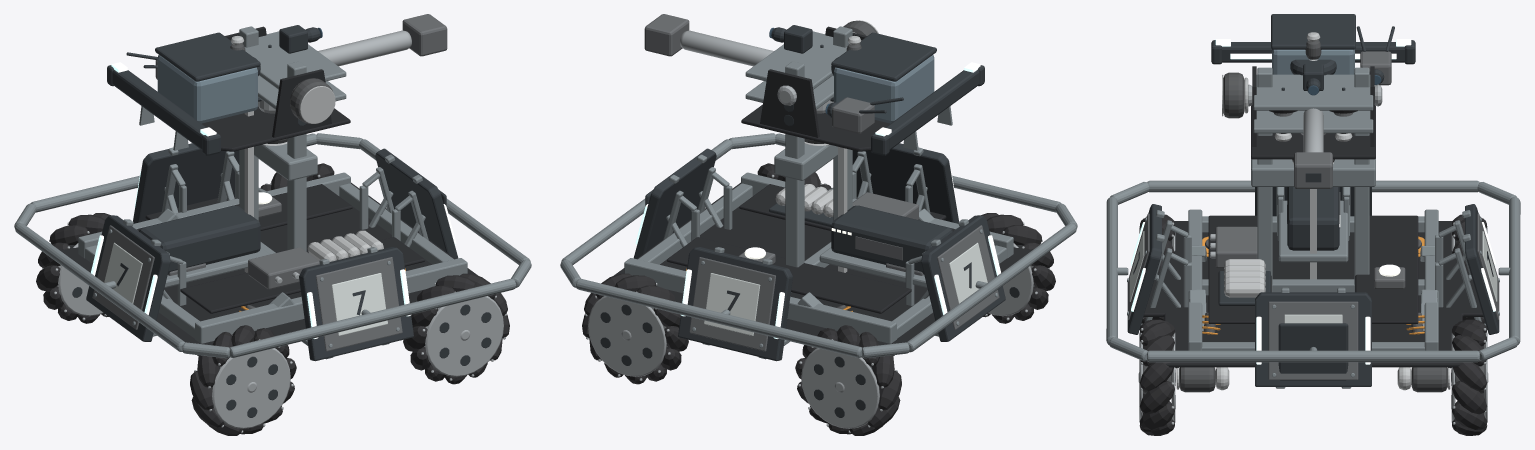
Rendered from robot-7-spec2026v4.glb.
The picture shows the model from 3 angles, left to right: view 1: azimuth 30°, elevation 25°; view 2: azimuth 150°, elevation 25°; view 3: azimuth 270°, elevation 25°; orthographic projection.
Visible parts, largest first — view 1: Chassis_RobotMatteAluminum, Chassis_CarbonPlate, Chassis_RobotMatteGraphite, Wheel_2_MachinedAlloy, Wheel_0_MachinedAlloy, ArmorModuleBody.001, MagazineBox, Turret_CarbonPlate, ArmorModuleBody.003, ArmorModuleBody, Wheel_0_PolyurethaneRoller, ArmorHitFace.003 (+24 smaller); view 2: Chassis_RobotMatteAluminum, Chassis_CarbonPlate, Chassis_RobotMatteGraphite, Wheel_3_MachinedAlloy, Wheel_1_MachinedAlloy, Turret_CarbonPlate, ArmorModuleBody.003, MagazineBox, ArmorModuleBody.001, Turret_RobotMatteGraphite, ArmorModuleBody, Wheel_1_PolyurethaneRoller (+22 smaller); view 3: Chassis_RobotMatteAluminum, Chassis_CarbonPlate, Chassis_RobotMatteGraphite, GunPitch_RobotMatteAluminum, ArmorModuleBody, Wheel_2_PolyurethaneRoller, Wheel_3_PolyurethaneRoller, ArmorHitFace, Chassis_MotorCapSilver, Turret_CarbonPlate, MagazineLid, LiftCarriage (+27 smaller).
Boxes of the visible parts, x1=… form: Chassis_RobotMatteAluminum: x1=14, y1=26, x2=531, y2=358; Chassis_CarbonPlate: x1=58, y1=182, x2=477, y2=356; Chassis_RobotMatteGraphite: x1=139, y1=190, x2=446, y2=273; Wheel_2_MachinedAlloy: x1=421, y1=283, x2=506, y2=380; Wheel_0_MachinedAlloy: x1=194, y1=335, x2=293, y2=433; ArmorModuleBody.001: x1=133, y1=143, x2=239, y2=223; MagazineBox: x1=157, y1=55, x2=257, y2=123; Turret_CarbonPlate: x1=202, y1=26, x2=350, y2=151; ArmorModuleBody.003: x1=299, y1=247, x2=413, y2=361; ArmorModuleBody: x1=375, y1=148, x2=458, y2=258; Wheel_0_PolyurethaneRoller: x1=190, y1=325, x2=296, y2=435; ArmorHitFace.003: x1=316, y1=257, x2=402, y2=351; Chassis_RobotMatteAluminum: x1=560, y1=26, x2=1077, y2=358; Chassis_CarbonPlate: x1=614, y1=182, x2=1033, y2=356; Chassis_RobotMatteGraphite: x1=645, y1=190, x2=952, y2=273; Wheel_3_MachinedAlloy: x1=585, y1=283, x2=670, y2=380; Wheel_1_MachinedAlloy: x1=798, y1=335, x2=897, y2=433; Turret_CarbonPlate: x1=741, y1=26, x2=889, y2=151; ArmorModuleBody.003: x1=852, y1=143, x2=958, y2=223; MagazineBox: x1=834, y1=55, x2=934, y2=123; ArmorModuleBody.001: x1=678, y1=247, x2=792, y2=361; Turret_RobotMatteGraphite: x1=783, y1=65, x2=984, y2=155; ArmorModuleBody: x1=633, y1=148, x2=716, y2=258; Wheel_1_PolyurethaneRoller: x1=795, y1=325, x2=901, y2=435; Chassis_RobotMatteAluminum: x1=1106, y1=67, x2=1520, y2=362; Chassis_CarbonPlate: x1=1143, y1=215, x2=1483, y2=367; Chassis_RobotMatteGraphite: x1=1175, y1=187, x2=1451, y2=380; GunPitch_RobotMatteAluminum: x1=1253, y1=74, x2=1373, y2=133; ArmorModuleBody: x1=1255, y1=292, x2=1371, y2=386; Wheel_2_PolyurethaneRoller: x1=1139, y1=319, x2=1174, y2=435; Wheel_3_PolyurethaneRoller: x1=1452, y1=319, x2=1487, y2=435; ArmorHitFace: x1=1268, y1=301, x2=1358, y2=379; Chassis_MotorCapSilver: x1=1176, y1=189, x2=1450, y2=390; Turret_CarbonPlate: x1=1251, y1=66, x2=1375, y2=159; MagazineLid: x1=1271, y1=14, x2=1355, y2=49; LiftCarriage: x1=1251, y1=158, x2=1375, y2=186.
Size of the model in its own units: 0.5969 by 0.5206 by 0.5969.
